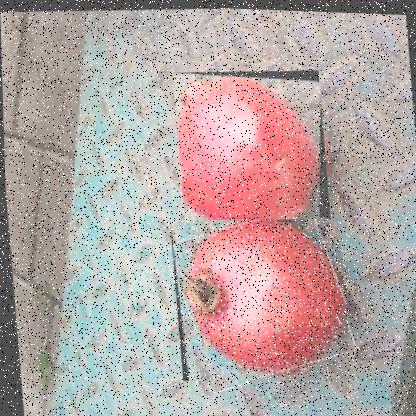pomegranate: (167, 210, 349, 388), (171, 62, 333, 227)
